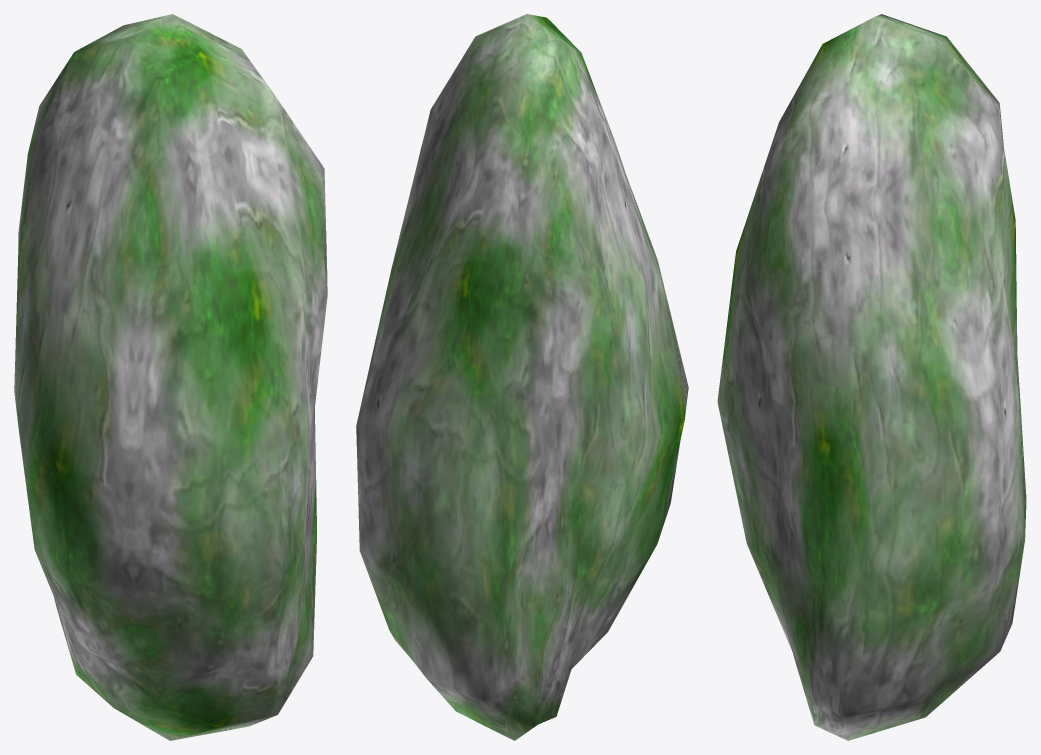
Rendered from INST_HTOWN_ROCKB.obj.
3 views of the same model, side by side, from view 1: azimuth 30°, elevation 25°; view 2: azimuth 150°, elevation 25°; view 3: azimuth 270°, elevation 25° (orthographic). The views are drawn at different scales.
Parts seen in each view (by area): view 1: t_RockB_Lod1_01; view 2: t_RockB_Lod1_01; view 3: t_RockB_Lod1_01.
Part boxes in pixels (bbox=[...]): t_RockB_Lod1_01: bbox=[14, 14, 327, 740]; t_RockB_Lod1_01: bbox=[356, 14, 688, 740]; t_RockB_Lod1_01: bbox=[717, 14, 1026, 740].
Size of the model in its own units: 204 by 510 by 204.
